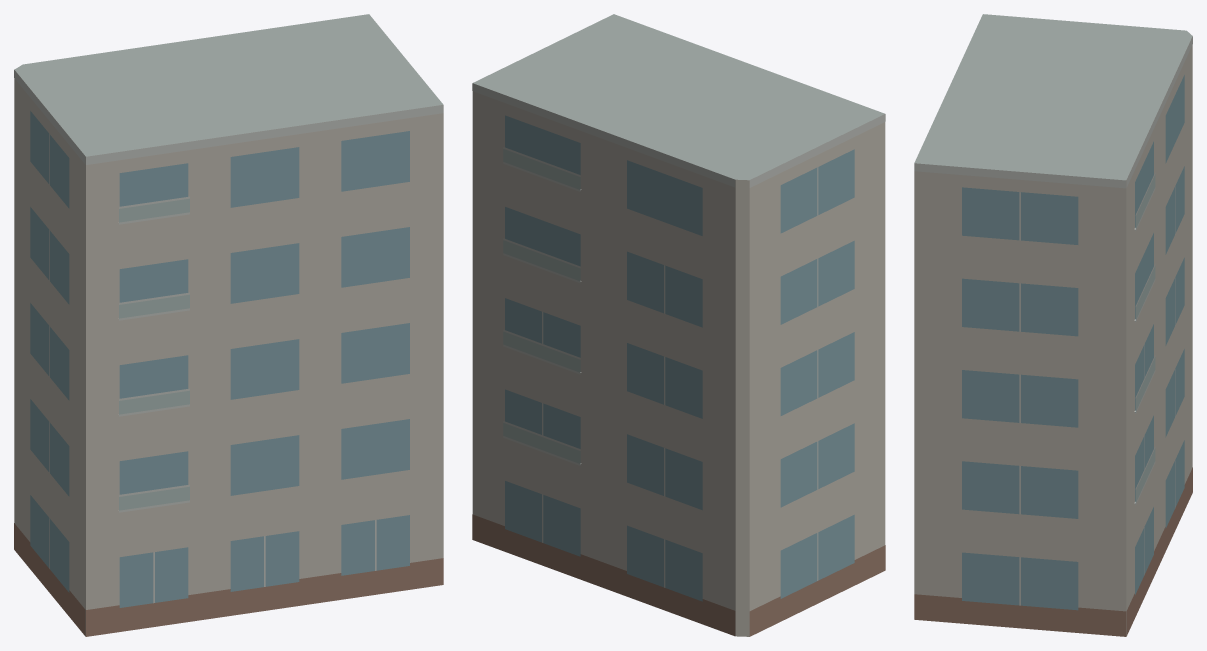
Rendered from survey-upis-32695676.glb.
3 renders of one model, left to right at view 1: azimuth 30°, elevation 25°; view 2: azimuth 150°, elevation 25°; view 3: azimuth 270°, elevation 25°, orthographic. The views are drawn at different scales.
Parts seen in each view (by area): view 1: survey-upis-32695676.tmp; view 2: survey-upis-32695676.tmp; view 3: survey-upis-32695676.tmp.
Part boxes in pixels (x1,y1,x2,y2): survey-upis-32695676.tmp: (14,14,443,636); survey-upis-32695676.tmp: (472,14,885,636); survey-upis-32695676.tmp: (914,14,1192,636).
Bounding box in the file's own units: 10.92 × 13.95 × 7.73.
